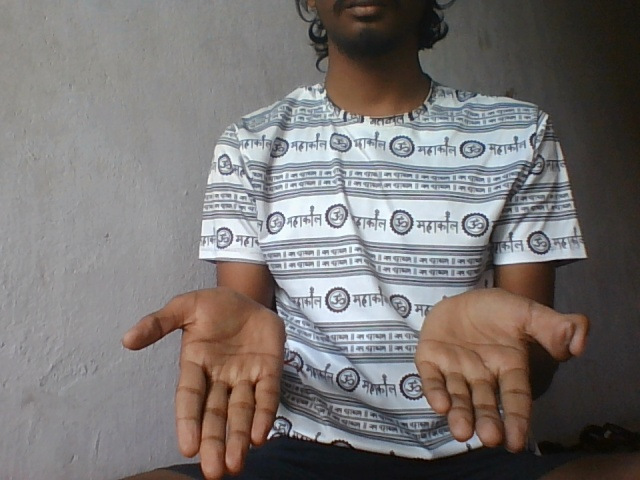Help: (114, 281, 596, 476)
